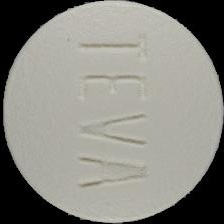68258-7154: (0, 0, 224, 224)
